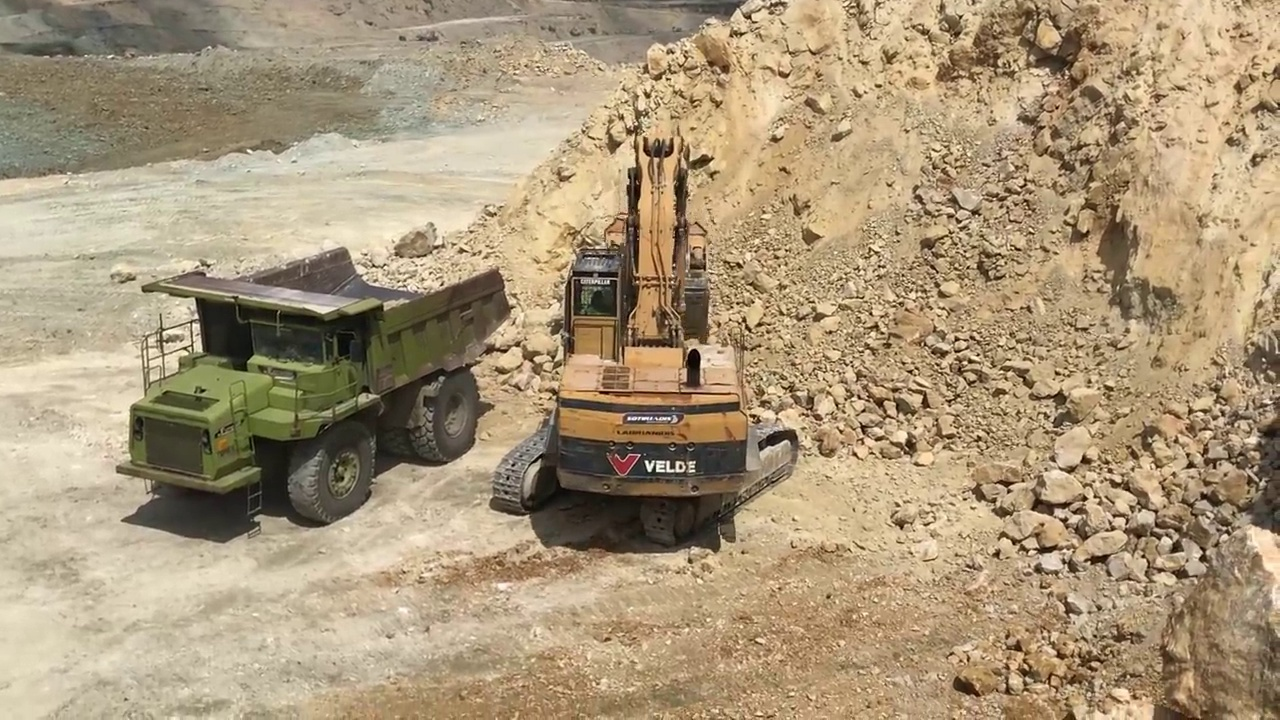truck: (113, 246, 516, 522)
wheel loader: (489, 123, 801, 551)
